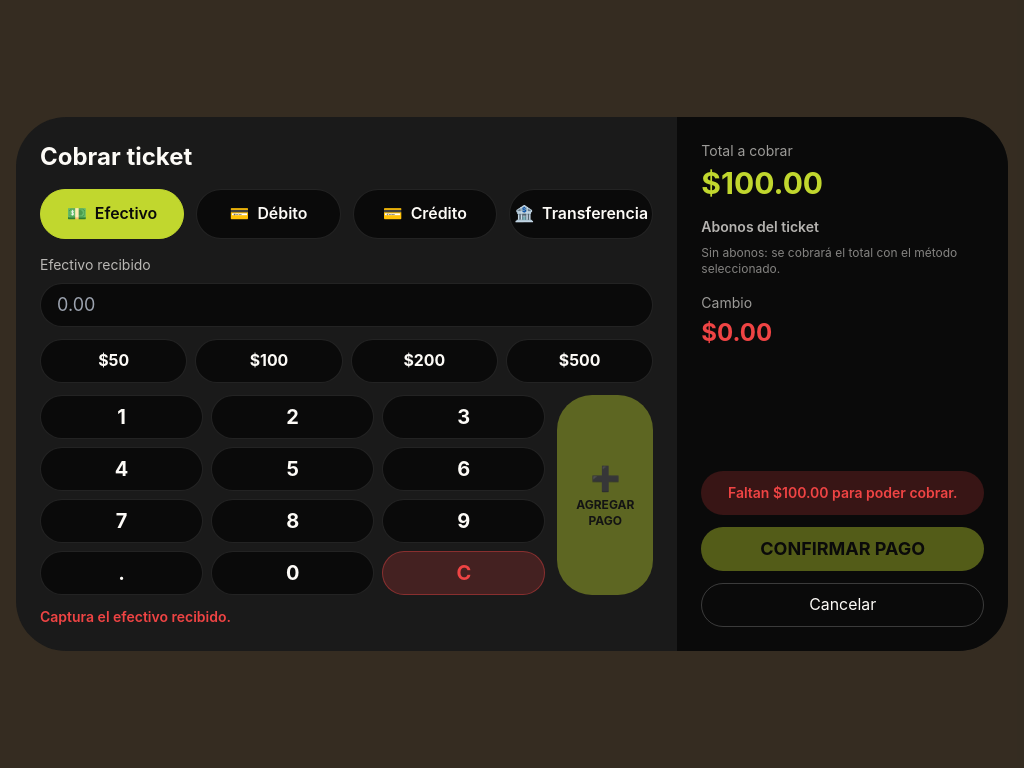
Scenario: F9.0.2 — CheckoutScreen integra el teclado › criterio 6: CONFIRMAR PAGO se deshabilita si el recibido < total
expect the button "CONFIRMAR PAGO" is disabled: met, box 701,527 -> 984,571
Click the button "5".
click(293, 469)  # box 211,447 -> 374,491
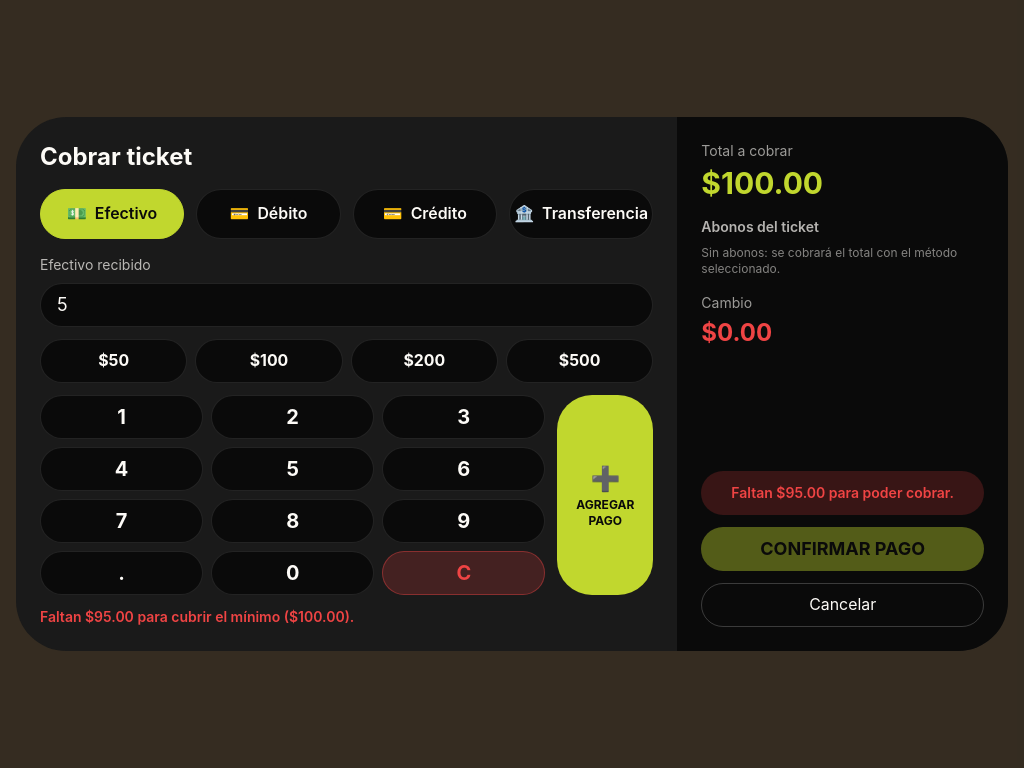
Click the button "0".
click(293, 573)  # box 211,551 -> 374,595
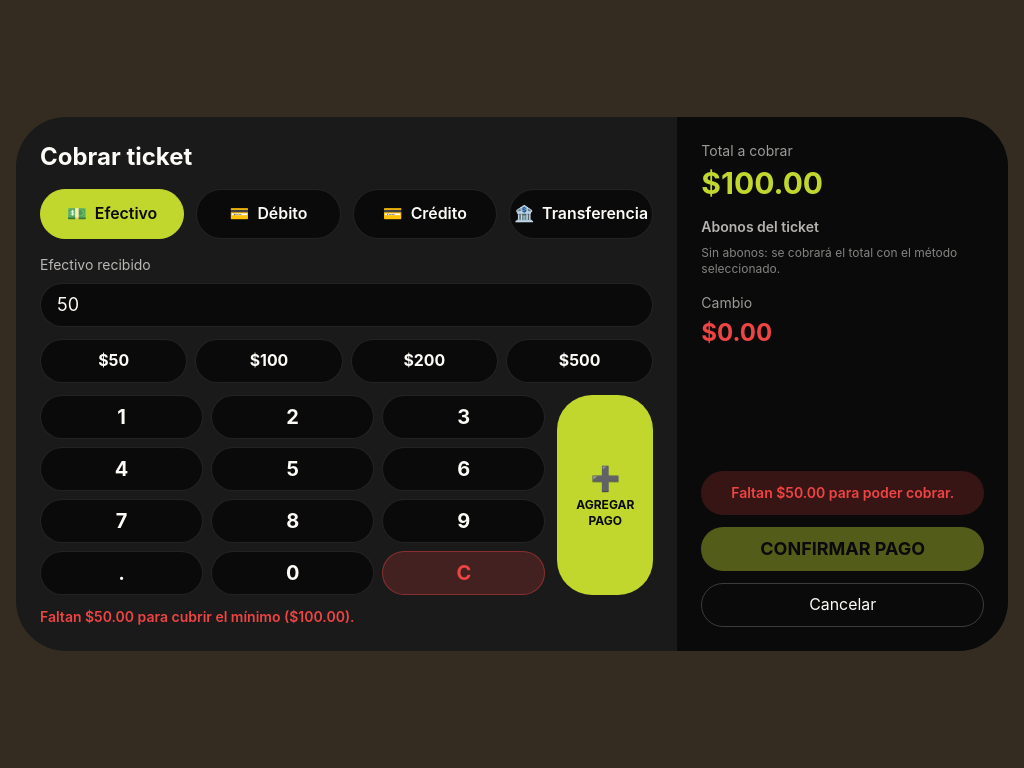
expect the button "CONFIRMAR PAGO" is disabled: met, box 701,527 -> 984,571
Click the button "0".
click(293, 573)  # box 211,551 -> 374,595
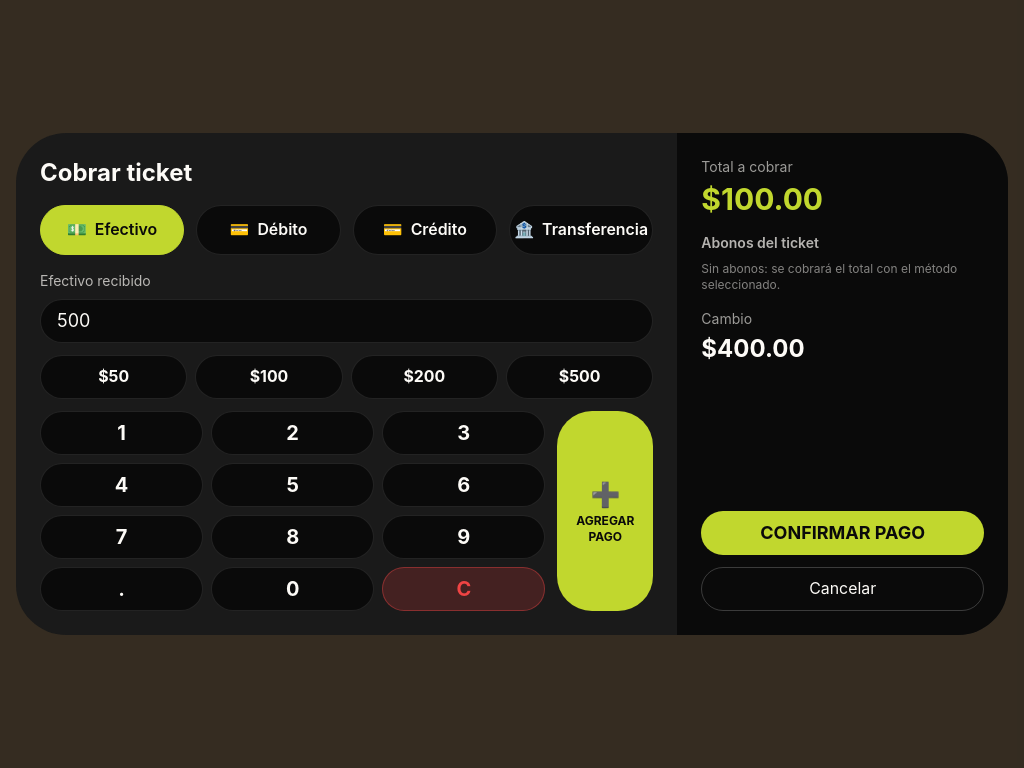
expect the button "CONFIRMAR PAGO" is enabled: met, box 701,511 -> 984,555
